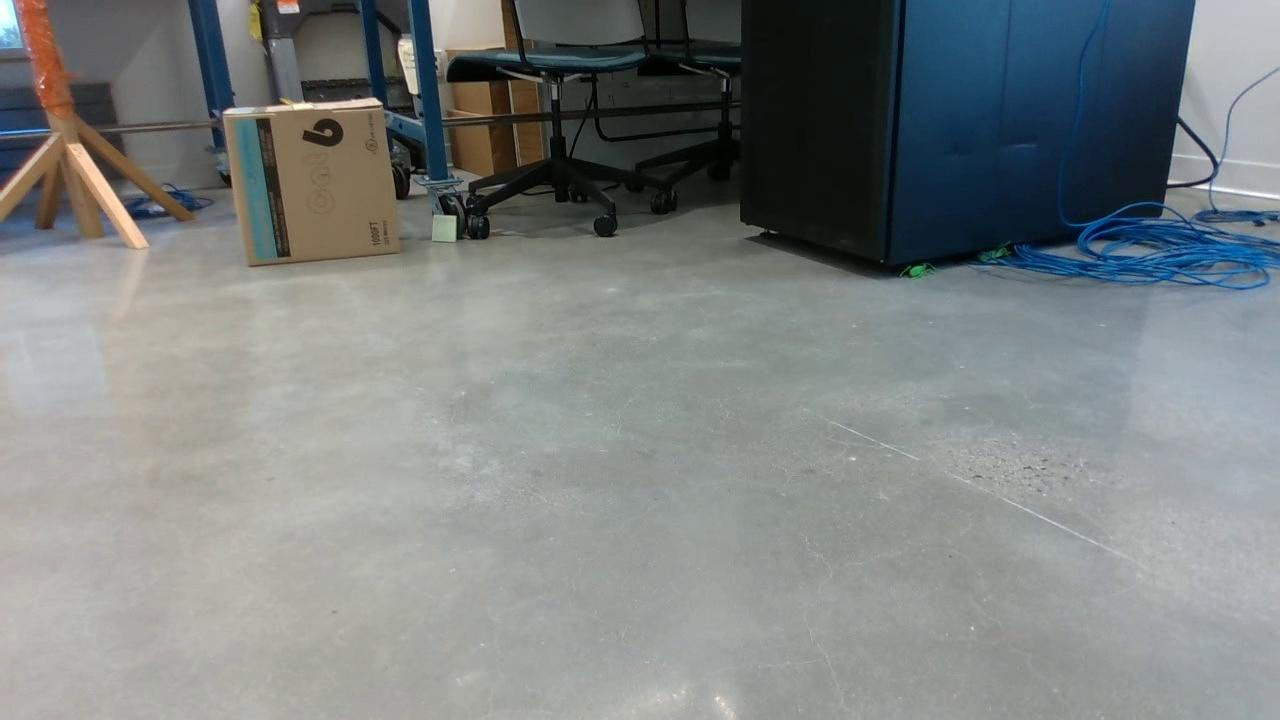grasshopper: (902, 260, 936, 277), (975, 245, 1006, 262)
